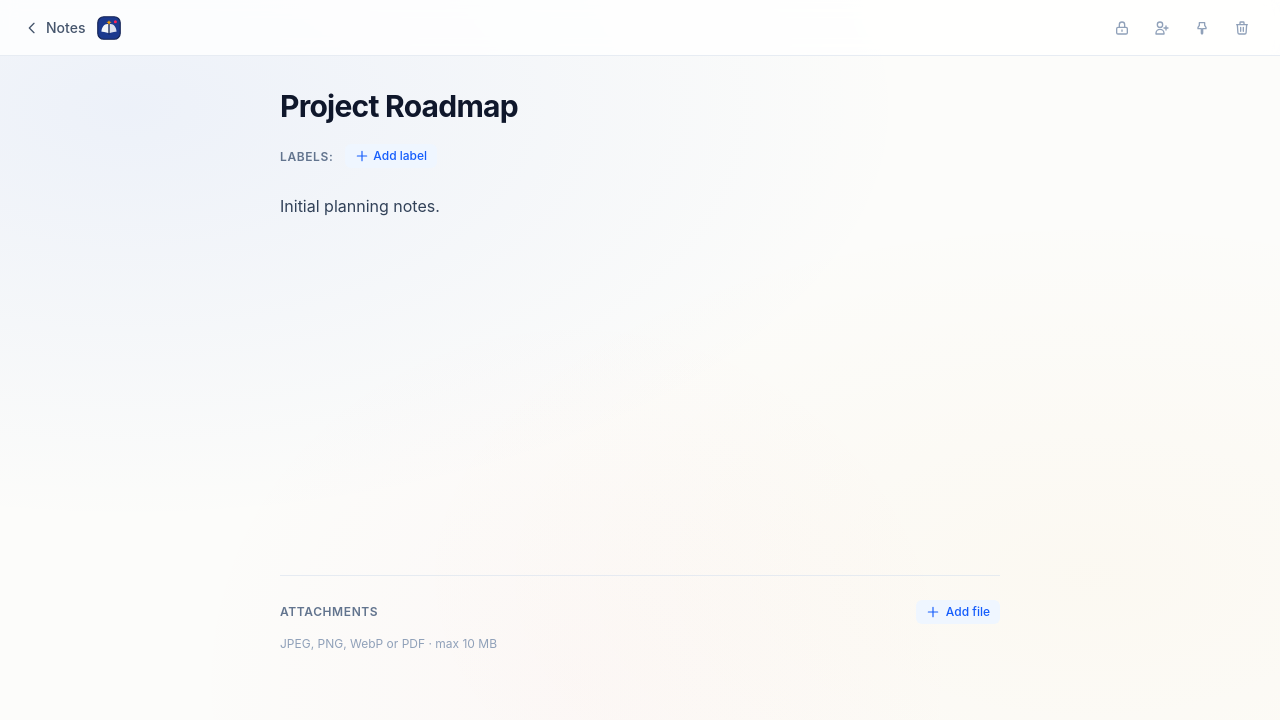
Test: SHARE-03 & SHARE-04 Sharing and Permissions Tests › SHARE-03: User-to-User Sharing Flow › shows error banner when share creation fails (e.g. self-sharing or user not found)
Click the button with test id "share-note-button" at (1162, 28), box [1148,14,1176,42]
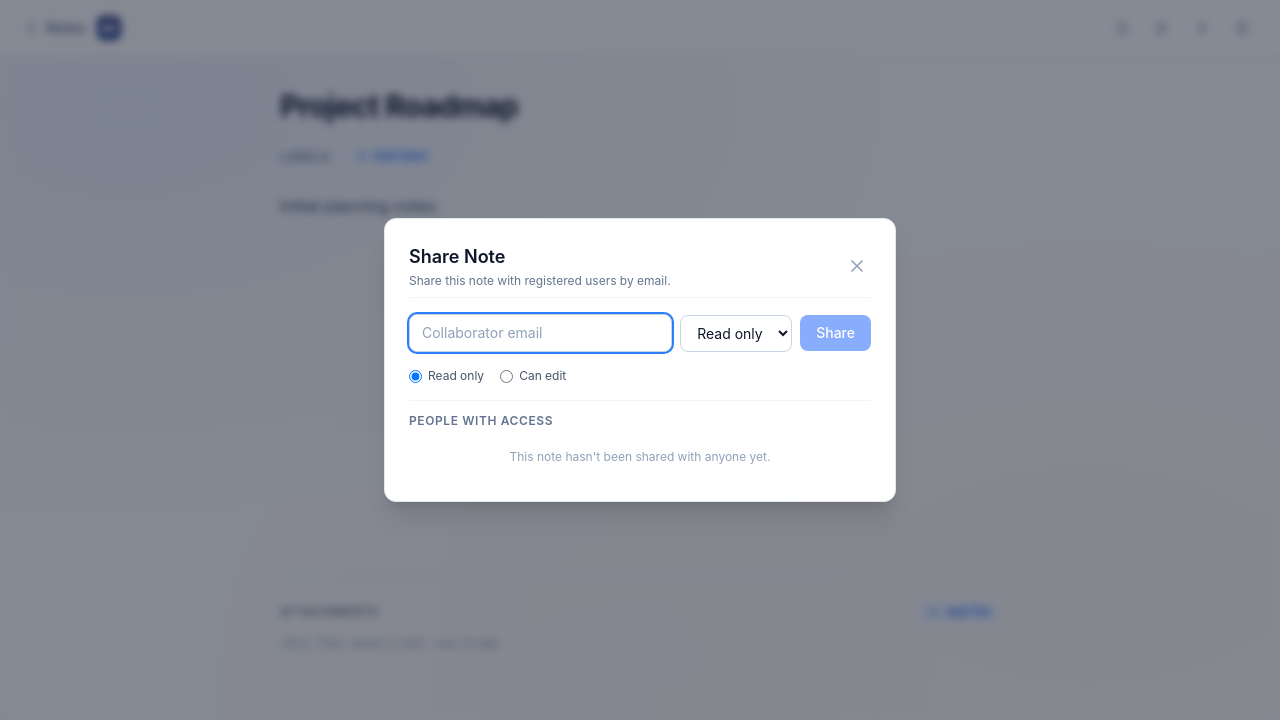
Expected: the element with test id "share-modal" is shown
Type "alice@example.com" into the field with test id "share-email-input" at (541, 333), box [409,314,672,352]
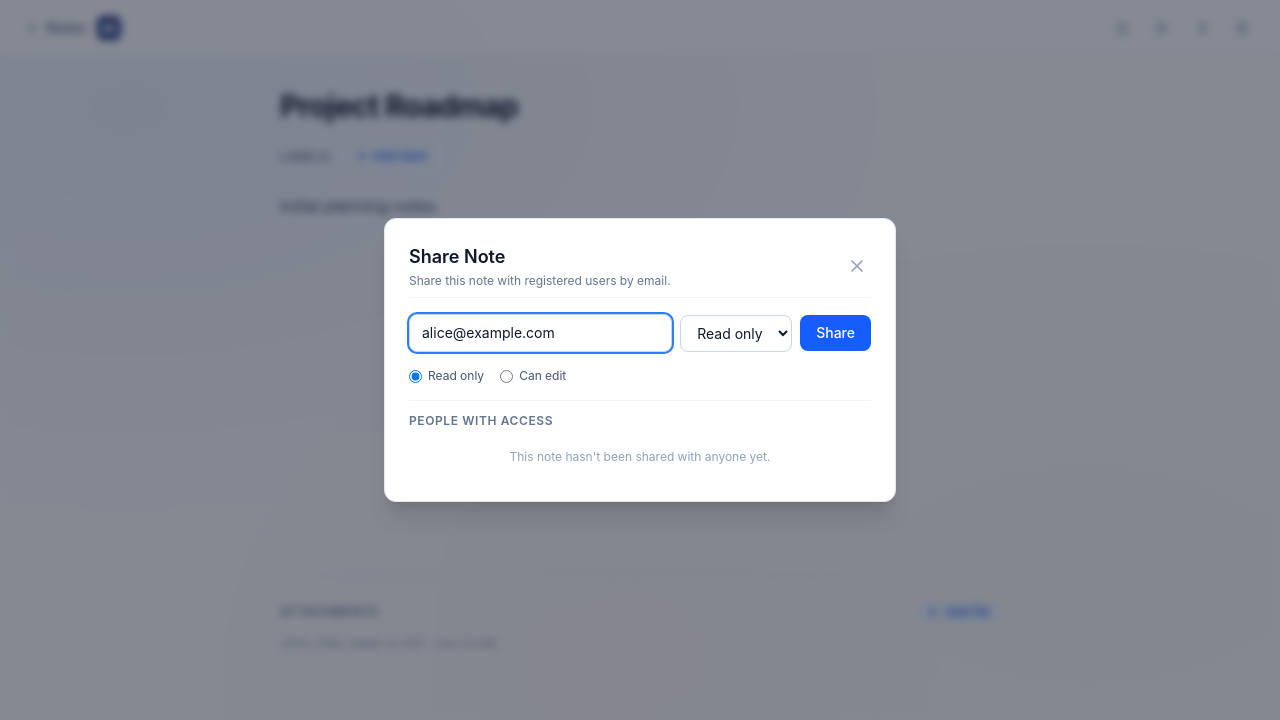
Click the button with test id "confirm-share-button" at (836, 333), box [800,315,871,351]
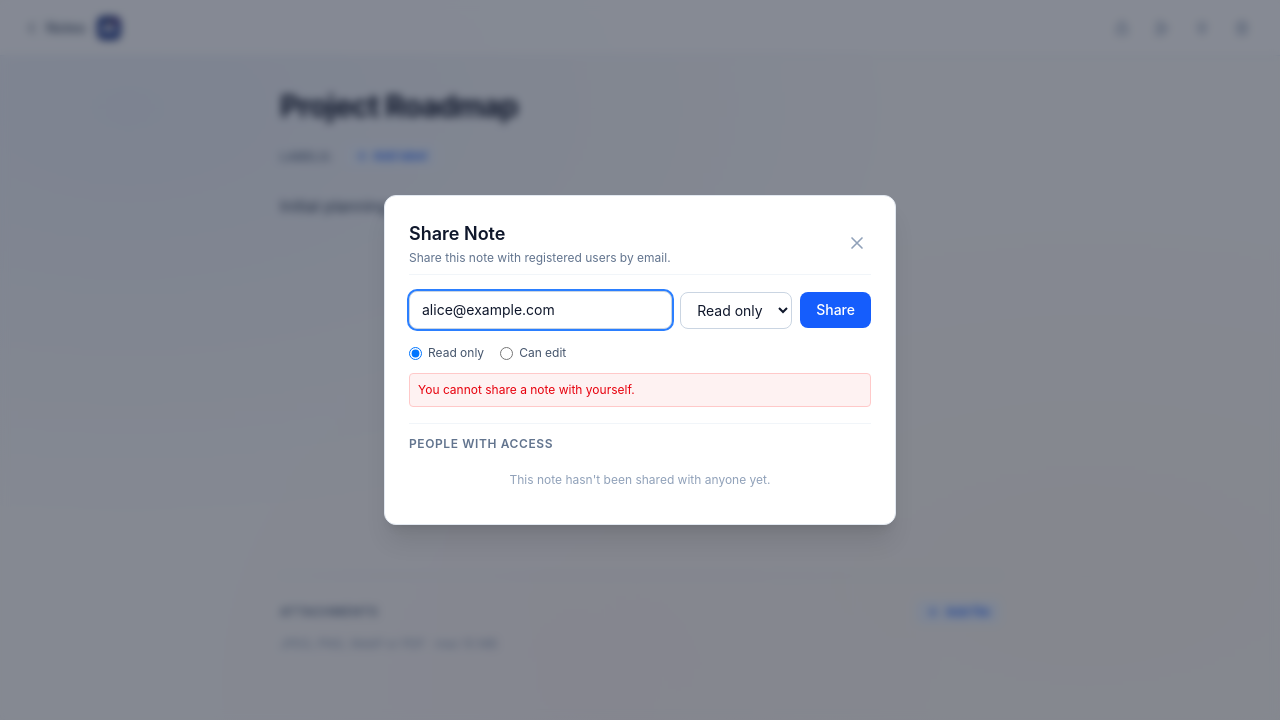
Expected: the text with test id "share-error" reads "You cannot share a note with yourself.", [418,382,635,397]
